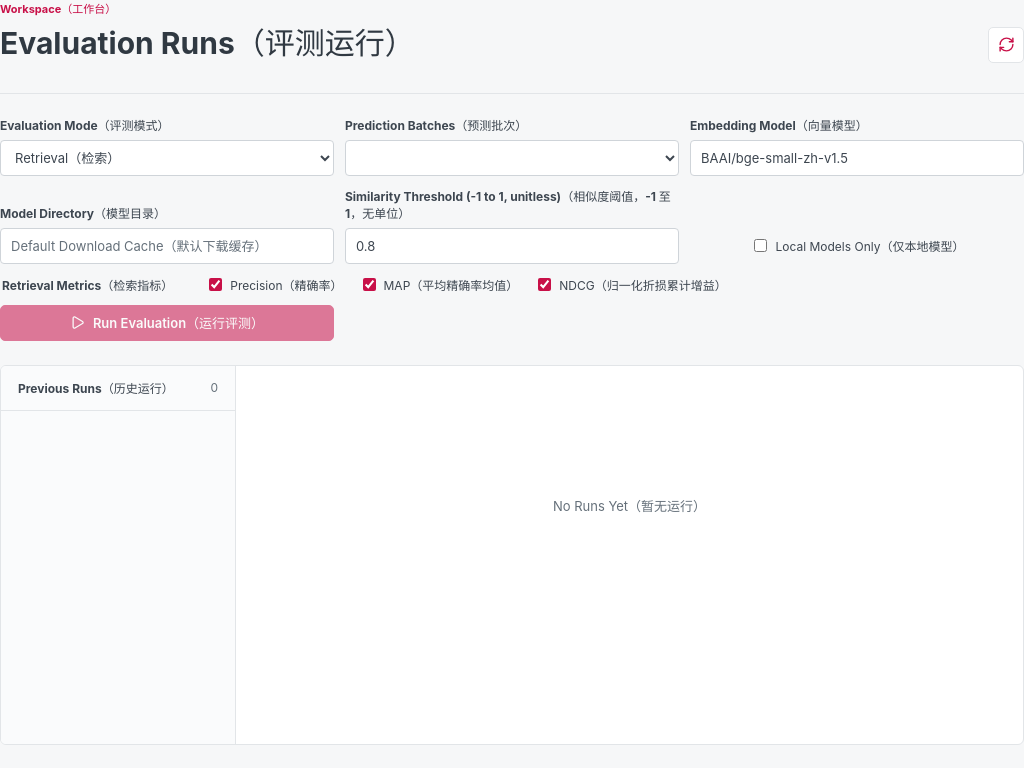
RunPage › starts answer evaluation with a scenario version and shows metric evidence
This screenshot has width=1024, height=768.
Select "Answer（回答）" in the dropdown labelled "Evaluation Mode（评测模式）" at (167, 158), box [0,140,334,176]
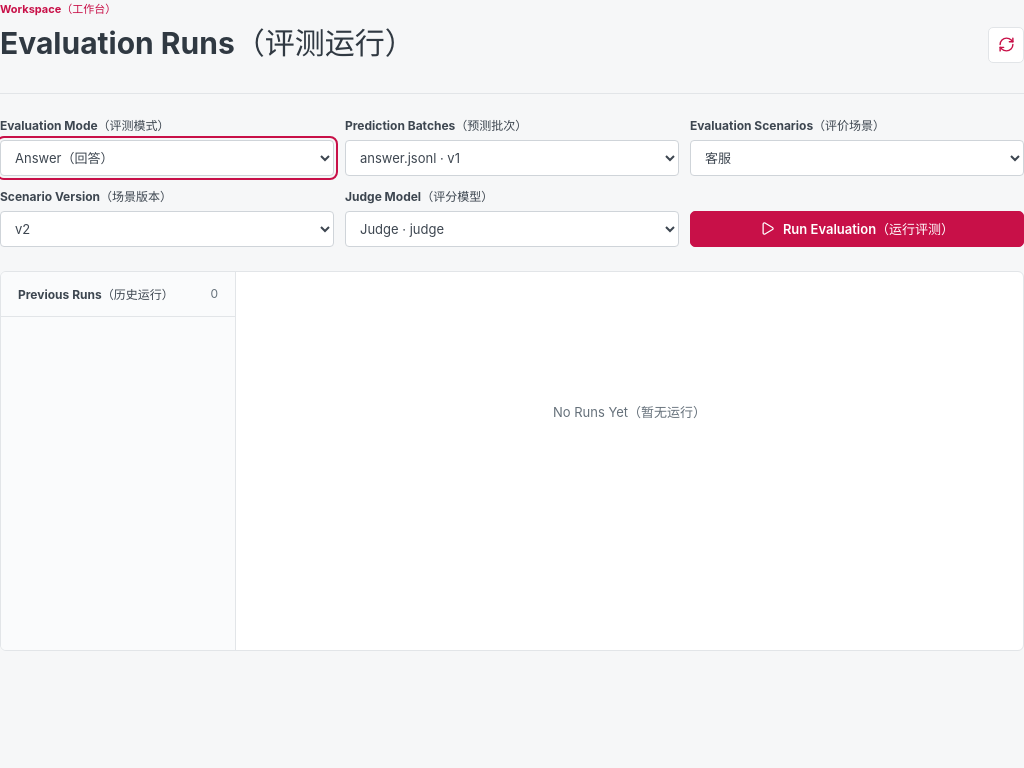
Expected: the dropdown labelled "Scenario Version（场景版本）" is shown, [0,210,334,246]
Click the button "Run Evaluation（运行评测）" at (857, 228), box [690,210,1023,246]
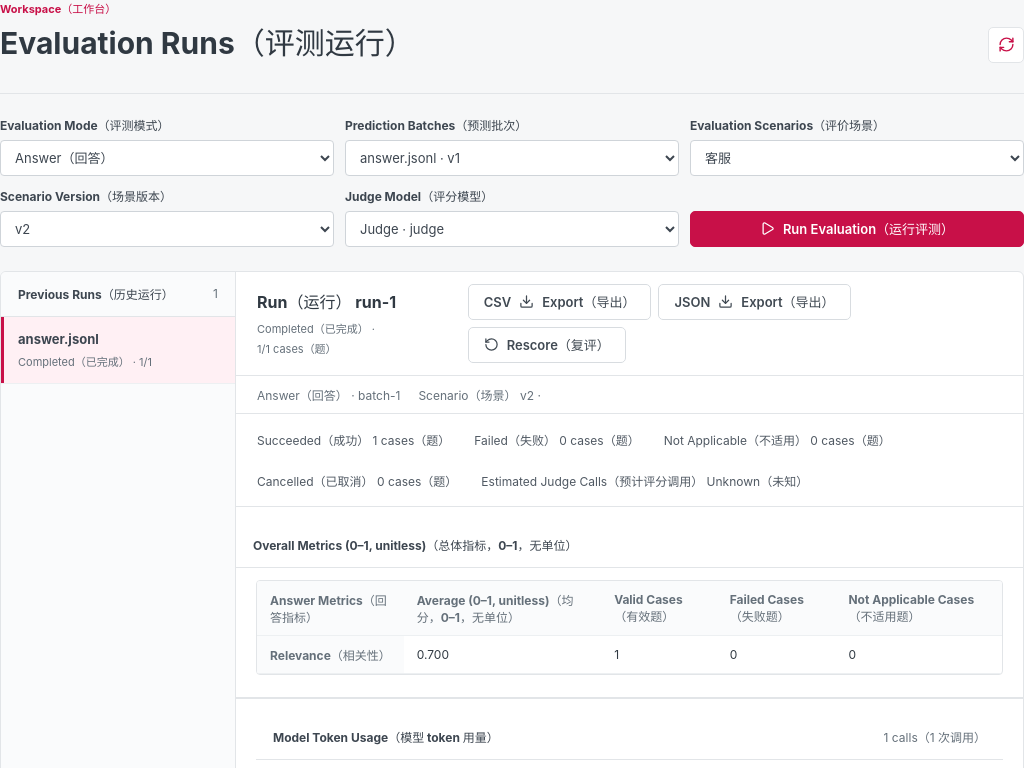
Expected: the element "总体指标" shows "0.700", [417,646,449,662]
